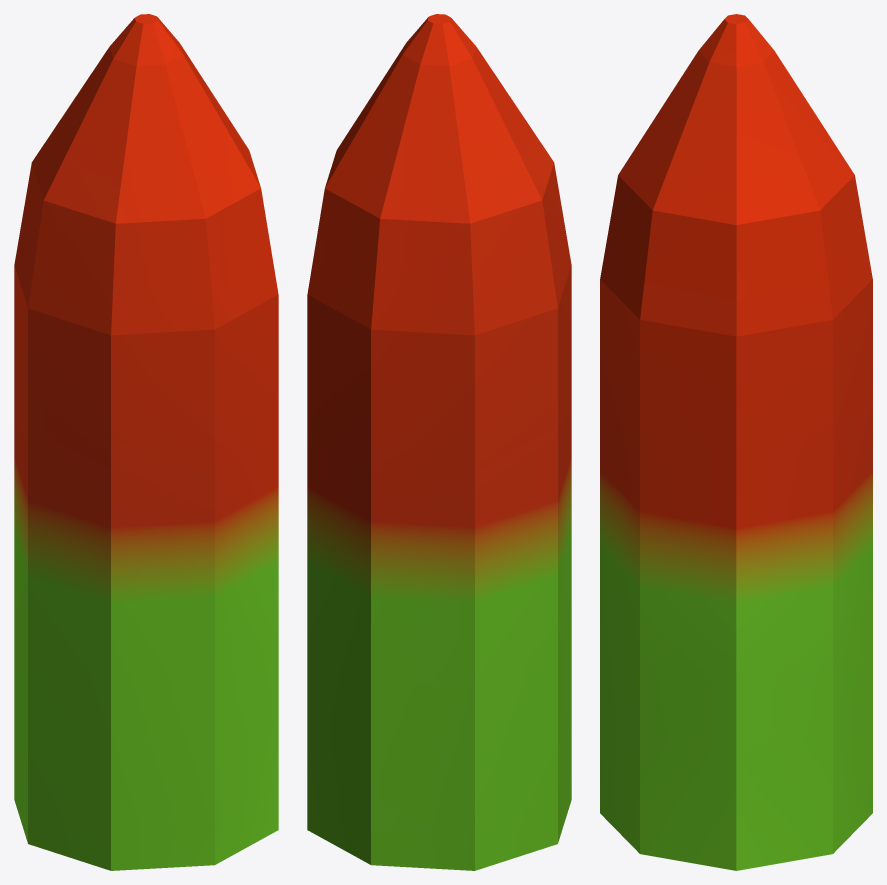
File: BossQuimicaAttack.fbx
3 views of the same model, side by side, from view 1: azimuth 30°, elevation 25°; view 2: azimuth 150°, elevation 25°; view 3: azimuth 270°, elevation 25° (orthographic).
Visible parts, largest first — view 1: Cylinder; view 2: Cylinder; view 3: Cylinder.
Part boxes in pixels (<box>): Cylinder: <box>14,14,278,870</box>; Cylinder: <box>307,14,571,870</box>; Cylinder: <box>600,14,872,870</box>.
Size of the model in its own units: 200 by 643 by 200.
